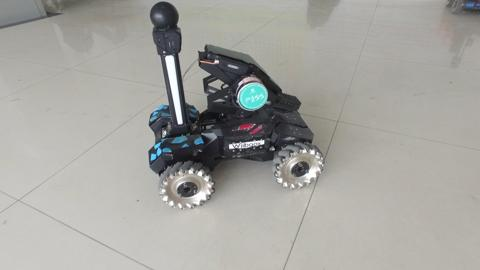chariot: (144, 1, 327, 211)
